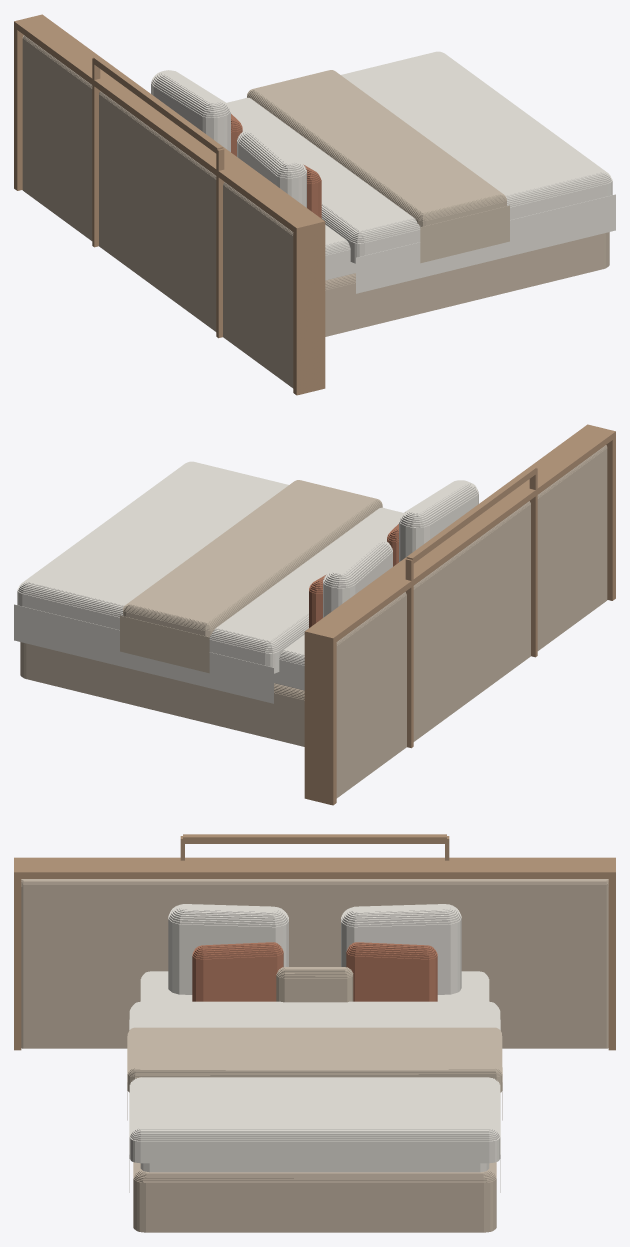
File: SM_Bed_Master.fbx
3 renders of one model, top to bottom at view 1: azimuth 30°, elevation 25°; view 2: azimuth 150°, elevation 25°; view 3: azimuth 270°, elevation 25°, orthographic. The views are drawn at different scales.
Visible parts, largest first — view 1: SM_Bed_Master; view 2: SM_Bed_Master; view 3: SM_Bed_Master.
Part boxes in pixels (bbox=[...]): SM_Bed_Master: bbox=[14, 14, 615, 395]; SM_Bed_Master: bbox=[14, 424, 615, 805]; SM_Bed_Master: bbox=[14, 834, 615, 1232].
Size of the model in its own units: 250 by 123 by 328.
